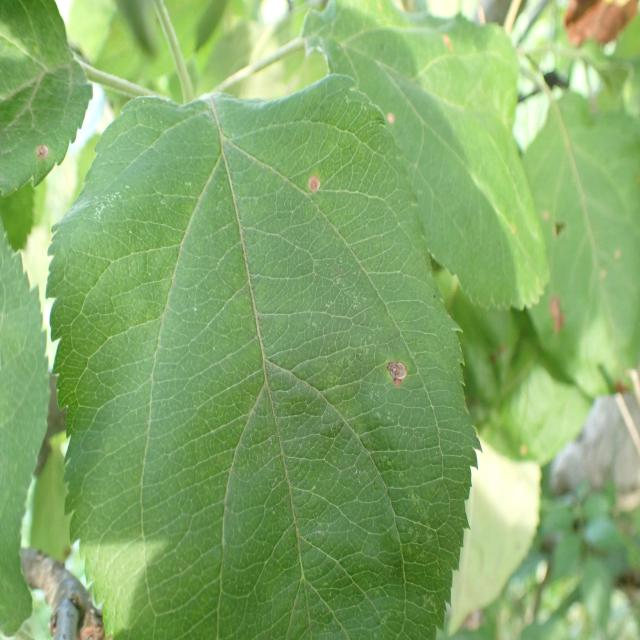Black Rot: (436, 16, 469, 86), (382, 343, 422, 400), (299, 145, 324, 227), (28, 122, 49, 176), (380, 90, 402, 138)
